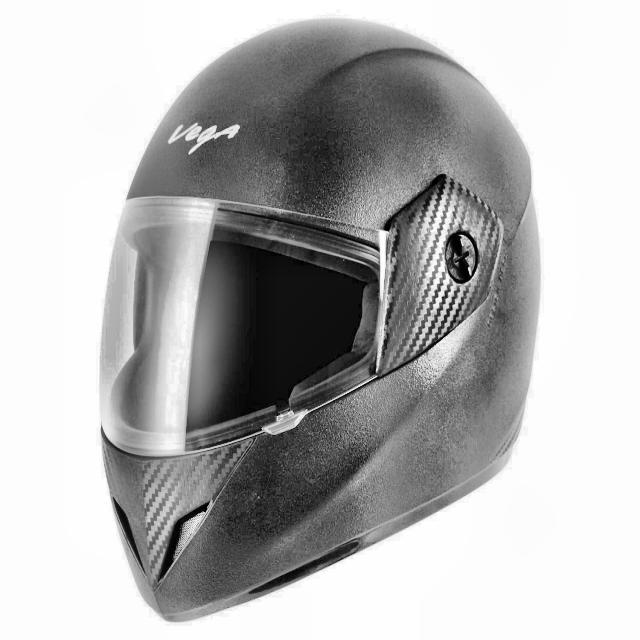Helmet: (78, 0, 547, 619)
